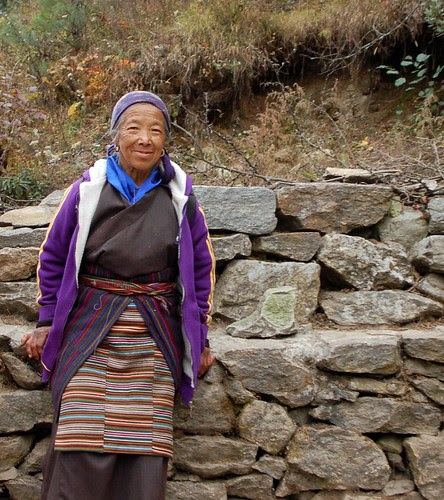human: (12, 86, 222, 500)
